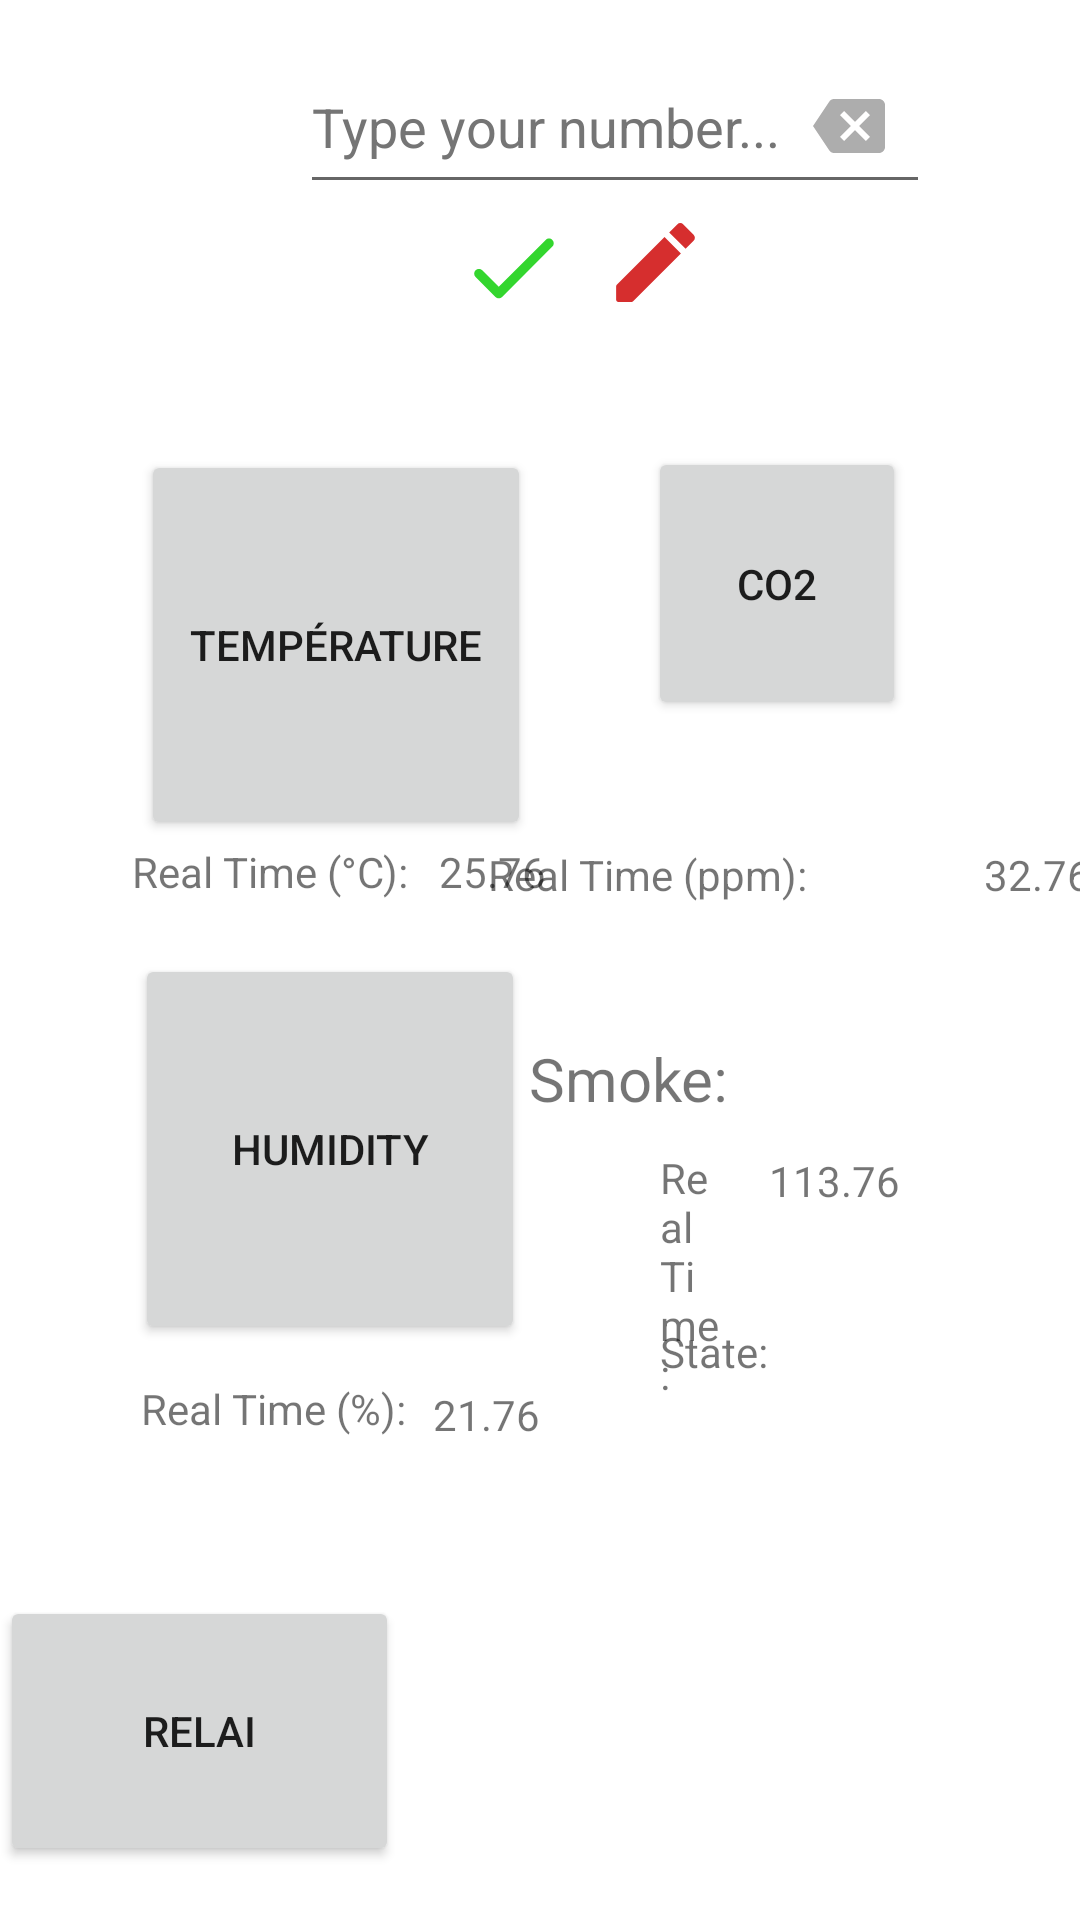

Point at icon controls on the screen. Image size 1080px x 1920px, points as point (x, y).
backspace: point (849, 126)
check: point (514, 268)
edit: point (655, 262)
